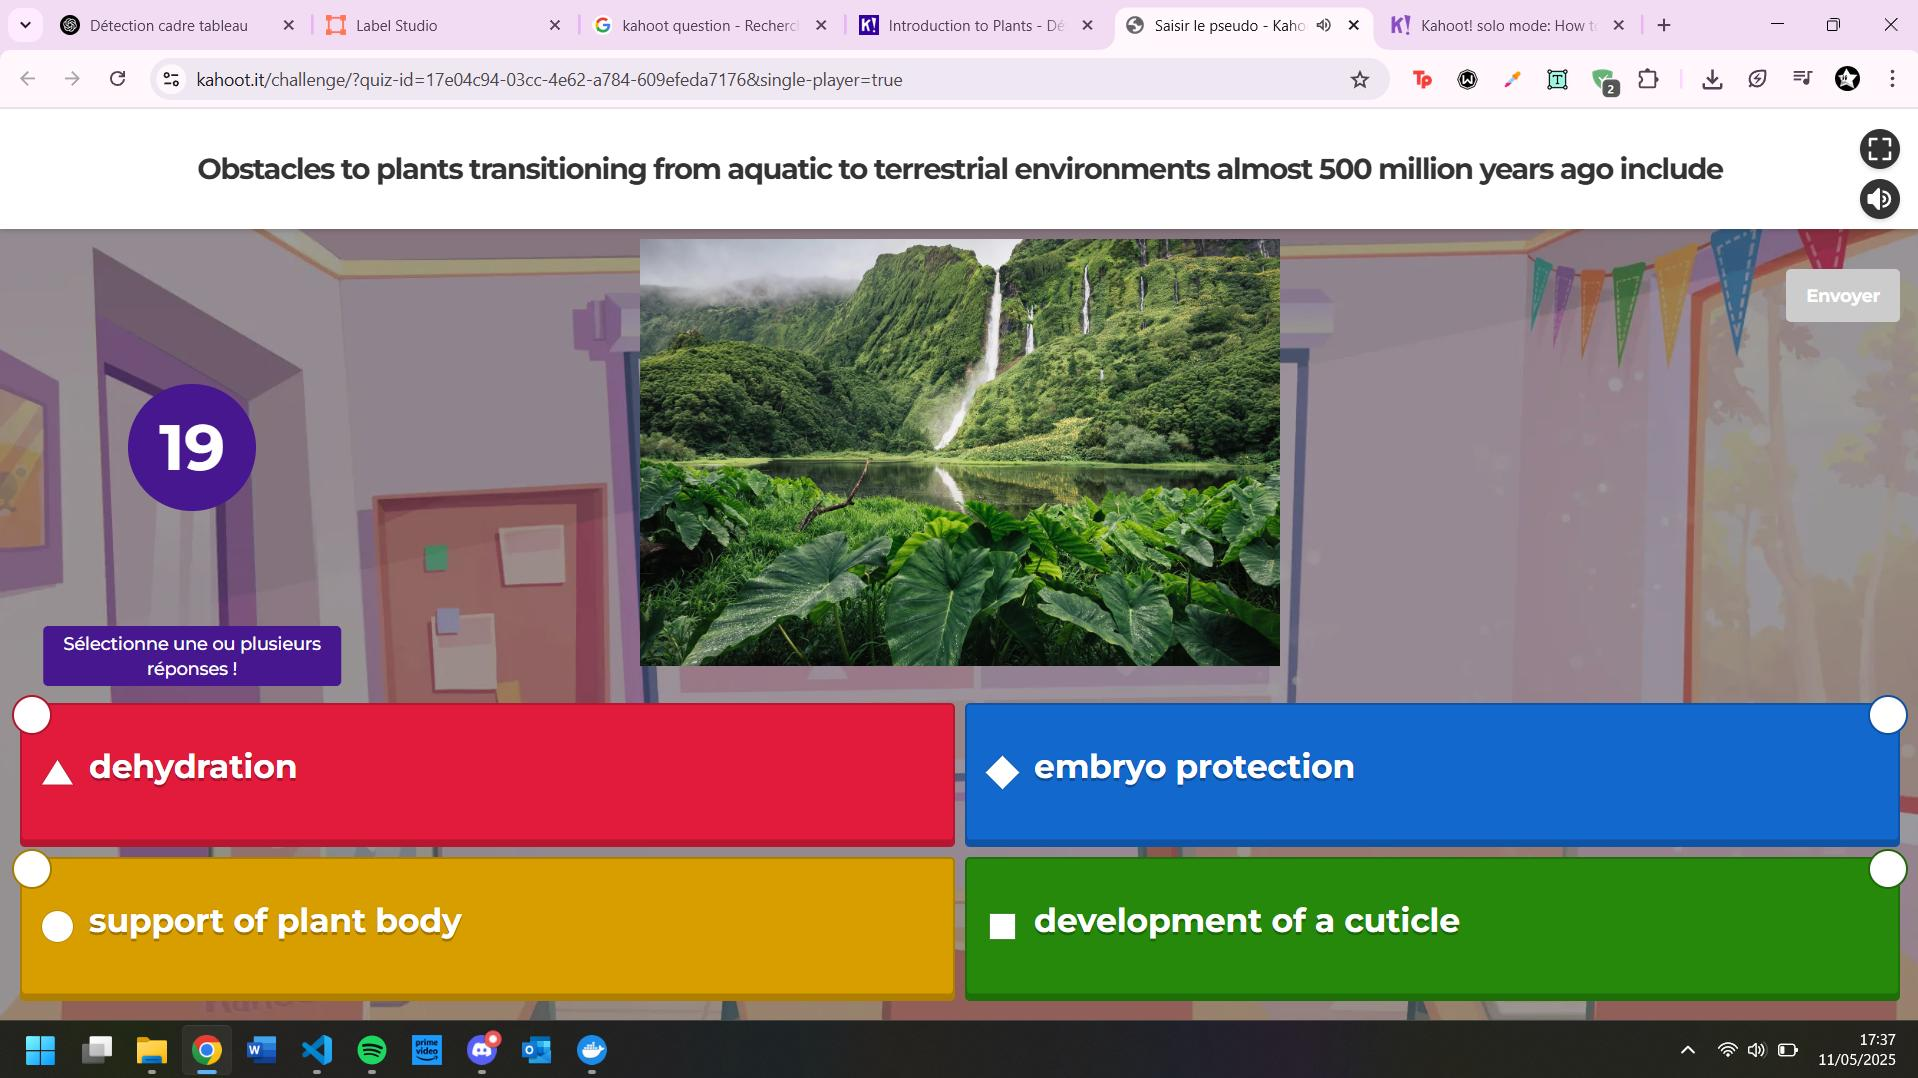answer_blue: (968, 706, 1896, 842)
answer_green: (967, 859, 1896, 995)
answer_red: (20, 702, 956, 839)
answer_yellow: (26, 865, 954, 992)
question_box: (4, 112, 1844, 229)
